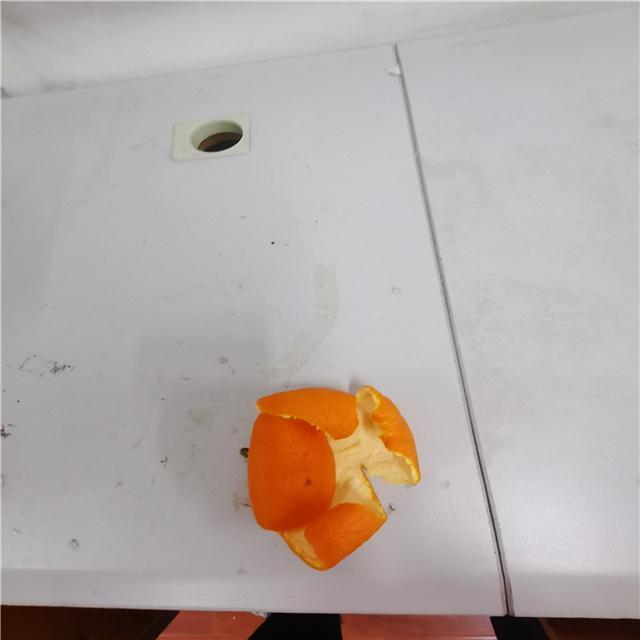orange-peel: (249, 376, 422, 572)
